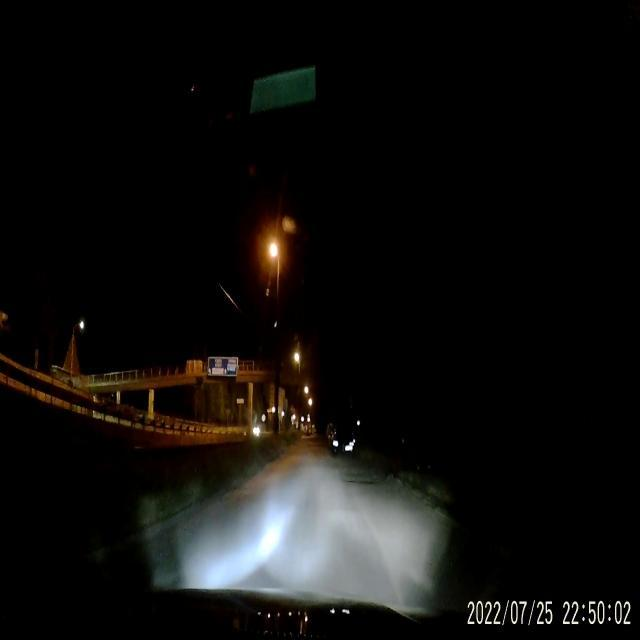Pothole: (344, 469, 374, 490)
